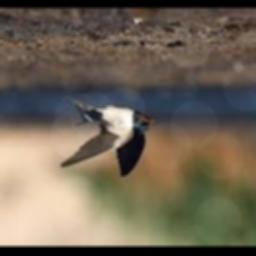Swallow: (60, 97, 154, 177)
